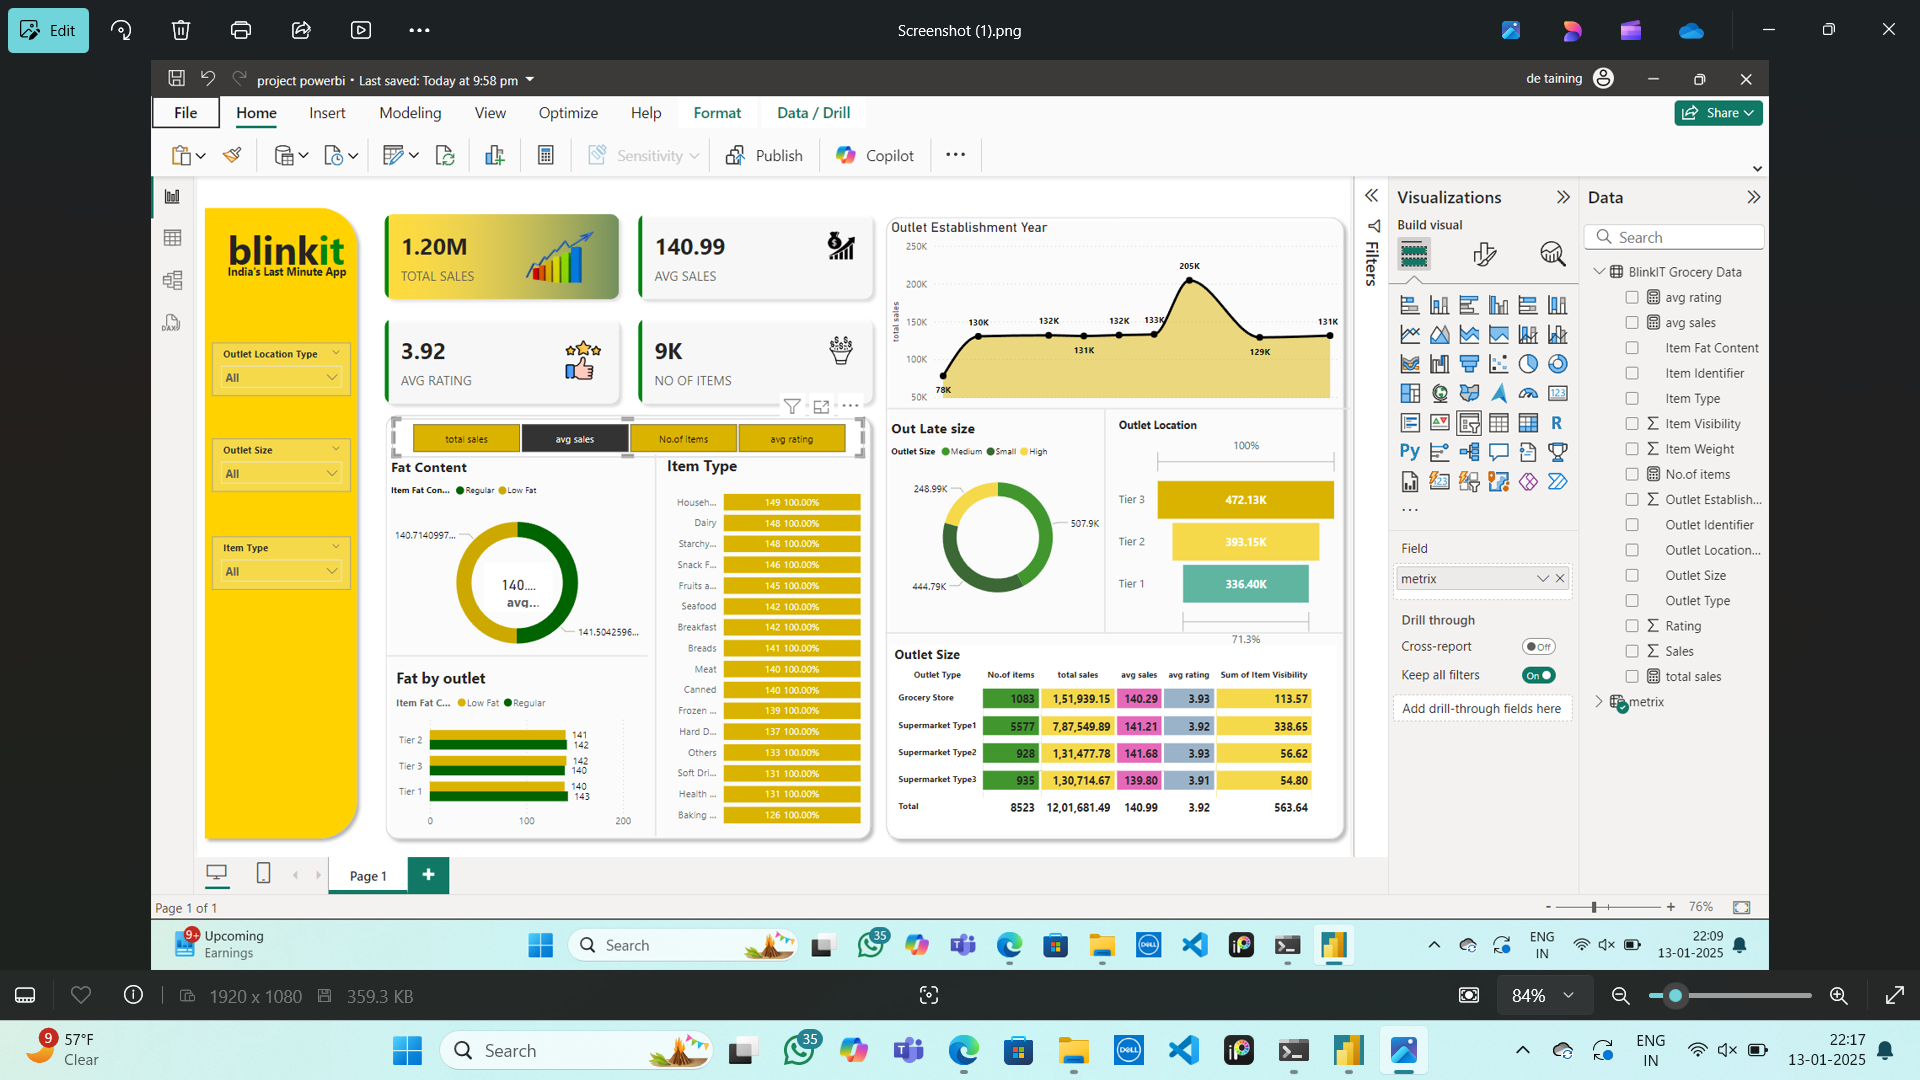

The dashboard page shown, as its layout file describes it:
{"tool":"powerbi","page":{"name":"Page 1","canvas":[1437,849],"ordinal":0},"visuals":[{"type":"shape","box":[0,30.8,208,804.2],"z":0},{"type":"textbox","box":[33.4,53.9,171.4,84.2],"z":1000},{"type":"textbox","box":[269,526.8,205.1,87.2],"z":2000},{"type":"textbox","box":[33.4,104.4,182.1,67.3],"z":3000},{"type":"cardVisual","fields":{"Data":["BlinkIT Grocery Data.total sales","BlinkIT Grocery Data.avg sales","BlinkIT Grocery Data.avg rating","BlinkIT Grocery Data.No.of items"]},"box":[216.6,30.5,642.2,270],"z":4000},{"type":"shape","box":[225.8,288.3,622.4,546.1],"z":5000},{"type":"donutChart","title":" Fat Content","fields":{"Y":["BlinkIT Grocery Data.avg sales"],"Category":["BlinkIT Grocery Data.Item Fat Content"]},"box":[236.5,350.9,324.9,262.4],"z":6000},{"type":"slicer","fields":{"Values":["metrix.metrix"]},"box":[242.6,302.1,588.9,48.8],"z":7000},{"type":"cardVisual","fields":{"Data":["BlinkIT Grocery Data.avg sales"]},"box":[357,482.1,85.4,61],"z":8000},{"type":"clusteredBarChart","title":"Fat by outlet","fields":{"Y":["BlinkIT Grocery Data.avg sales"],"Category":["BlinkIT Grocery Data.Outlet Location Type"],"Series":["BlinkIT Grocery Data.Item Fat Content"]},"box":[242.6,611.7,318.8,210.5],"z":9000},{"type":"shape","box":[236.5,570.5,324.9,53.4],"z":10000},{"type":"shape","box":[561.4,346.3,18.3,476],"z":11000},{"type":"hundredPercentStackedBarChart","title":"Item Type","fields":{"Y":["BlinkIT Grocery Data.avg sales"],"Category":["BlinkIT Grocery Data.Item Type"]},"box":[579.7,347.8,251.7,474.4],"z":12000},{"type":"shape","box":[848.8,41.6,588.5,793.4],"z":13000},{"type":"lineChart","title":" Outlet Establishment Year","fields":{"Category":["BlinkIT Grocery Data.Outlet Establishment Year"],"Y":["BlinkIT Grocery Data.total sales"]},"box":[859.6,53.9,566.9,235.7],"z":14000},{"type":"shape","box":[859.6,261.9,577.7,53.9],"z":15000},{"type":"donutChart","title":"Out Late size","fields":{"Y":["BlinkIT Grocery Data.total sales"],"Category":["BlinkIT Grocery Data.Outlet Size"]},"box":[859.6,301.9,275.8,246.5],"z":16000},{"type":"shape","box":[1126.1,289.6,9.2,280.4],"z":17000},{"type":"funnel","title":"Outlet Location","fields":{"Y":["Sum(BlinkIT Grocery Data.Sales)"],"Category":["BlinkIT Grocery Data.Outlet Location Type"]},"box":[1143.1,300.4,283.5,292.7],"z":18000},{"type":"shape","box":[856.5,542.3,571.5,53.9],"z":19000},{"type":"pivotTable","title":"Outlet Size","fields":{"Rows":["BlinkIT Grocery Data.Outlet Type"],"Values":["BlinkIT Grocery Data.No.of items","BlinkIT Grocery Data.total sales","BlinkIT Grocery Data.avg sales","BlinkIT Grocery Data.avg rating","Sum(BlinkIT Grocery Data.Item Visibility)"]},"box":[864.2,583.9,556.1,237.2],"z":20000},{"type":"slicer","fields":{"Values":["BlinkIT Grocery Data.Outlet Location Type"]},"box":[18.5,208,172.5,66.2],"z":21000},{"type":"slicer","fields":{"Values":["BlinkIT Grocery Data.Outlet Size"]},"box":[18.5,326.6,172.5,66.2],"z":22000},{"type":"slicer","fields":{"Values":["BlinkIT Grocery Data.Item Type"]},"box":[18.5,448.3,172.5,66.2],"z":22001}]}

Visuals, with their boxes on the page's 1437x849 design canvas (x1, y1, x2, y2). These are canvas units, not pixel positions in the 1920x1080 screenshot, which may show the page scaled, cropped or inside an application window:
shape: box=[0, 31, 208, 835]
textbox: box=[33, 54, 205, 138]
textbox: box=[269, 527, 474, 614]
textbox: box=[33, 104, 216, 172]
cardVisual - BlinkIT Grocery Data.total sales x BlinkIT Grocery Data.avg sales: box=[217, 30, 859, 300]
shape: box=[226, 288, 848, 834]
" Fat Content" donutChart: box=[236, 351, 561, 613]
slicer - metrix.metrix: box=[243, 302, 832, 351]
cardVisual - BlinkIT Grocery Data.avg sales: box=[357, 482, 442, 543]
"Fat by outlet" clusteredBarChart: box=[243, 612, 561, 822]
shape: box=[236, 570, 561, 624]
shape: box=[561, 346, 580, 822]
"Item Type" hundredPercentStackedBarChart: box=[580, 348, 831, 822]
shape: box=[849, 42, 1437, 835]
" Outlet Establishment Year" lineChart: box=[860, 54, 1426, 290]
shape: box=[860, 262, 1437, 316]
"Out Late size" donutChart: box=[860, 302, 1135, 548]
shape: box=[1126, 290, 1135, 570]
"Outlet Location" funnel: box=[1143, 300, 1427, 593]
shape: box=[856, 542, 1428, 596]
"Outlet Size" pivotTable: box=[864, 584, 1420, 821]
slicer - BlinkIT Grocery Data.Outlet Location Type: box=[18, 208, 191, 274]
slicer - BlinkIT Grocery Data.Outlet Size: box=[18, 327, 191, 393]
slicer - BlinkIT Grocery Data.Item Type: box=[18, 448, 191, 514]
